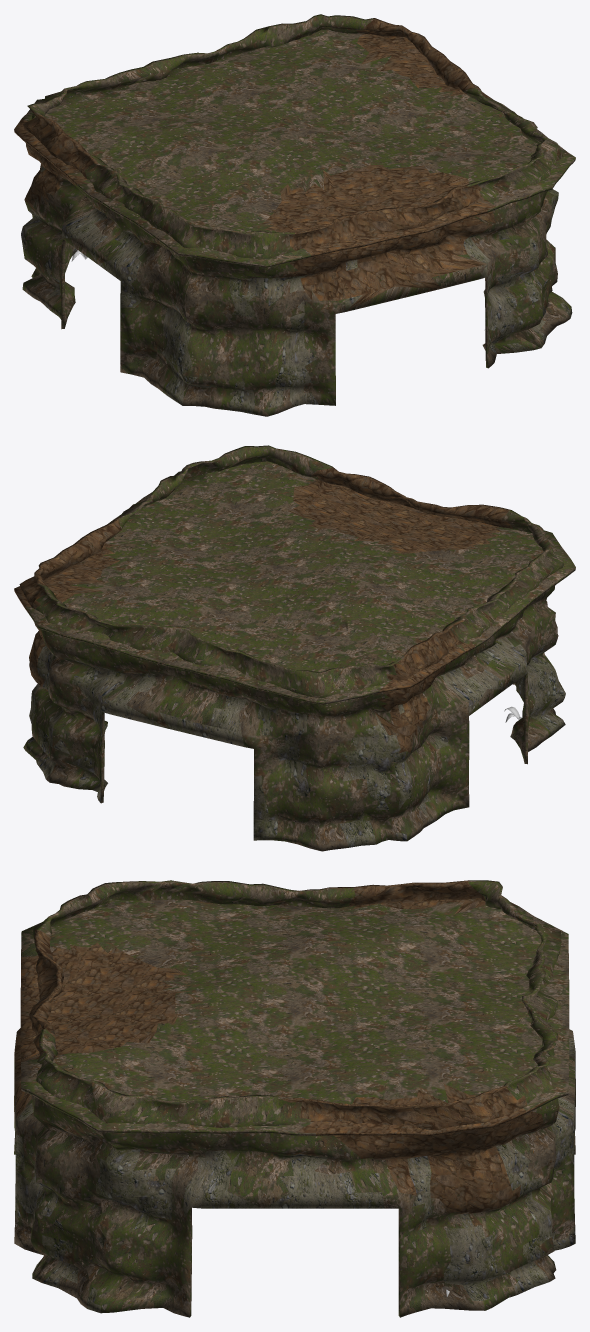
Rendered from nursery_lining_organic.obj.
The picture shows the model from 3 angles, top to bottom: view 1: azimuth 30°, elevation 25°; view 2: azimuth 150°, elevation 25°; view 3: azimuth 270°, elevation 25°; orthographic projection. The views are drawn at different scales.
Visible parts, largest first — view 1: nursery_lining_Rock_skin; view 2: nursery_lining_Rock_skin; view 3: nursery_lining_Rock_skin.
Part boxes in pixels (x1,y1,x2,y2): nursery_lining_Rock_skin: (14,14,575,416); nursery_lining_Rock_skin: (14,445,575,851); nursery_lining_Rock_skin: (14,880,575,1317).
Size of the model in its own units: 1047 by 446 by 1047.
